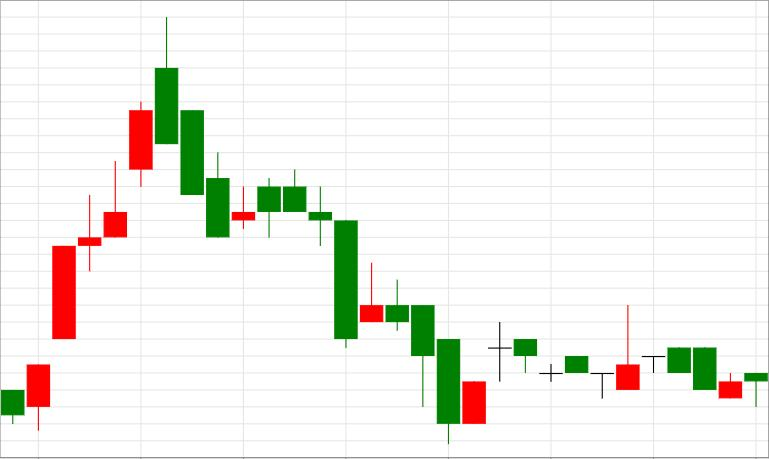inverse_hammer_rise: (488, 303, 639, 400)
